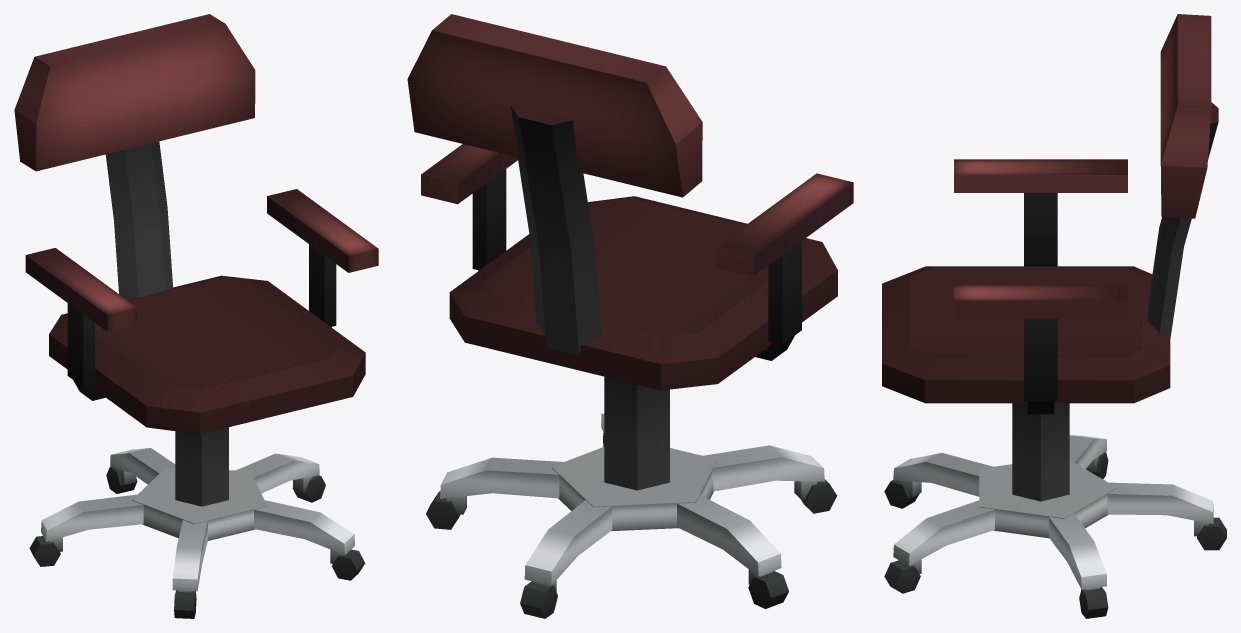
File: Chair_DeskChair_Red.fbx
The picture shows the model from 3 angles, left to right: view 1: azimuth 30°, elevation 25°; view 2: azimuth 150°, elevation 25°; view 3: azimuth 270°, elevation 25°; orthographic projection. The views are drawn at different scales.
Parts seen in each view (by area): view 1: Chair_DeskChair_Red; view 2: Chair_DeskChair_Red; view 3: Chair_DeskChair_Red.
Part boxes in pixels (x1,y1,x2,y2): Chair_DeskChair_Red: (14,14,378,618); Chair_DeskChair_Red: (407,14,853,618); Chair_DeskChair_Red: (882,14,1226,618).
Bounding box in the file's own units: 69.71 × 104 × 66.73.
